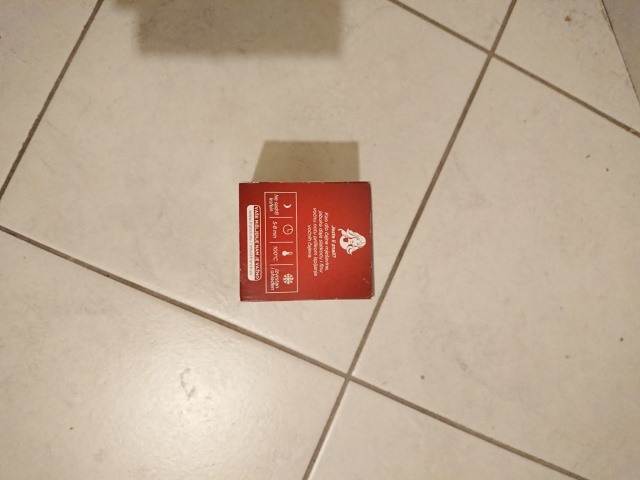Franck Apple Cinnamon Tea 60g: (235, 177, 378, 305)
